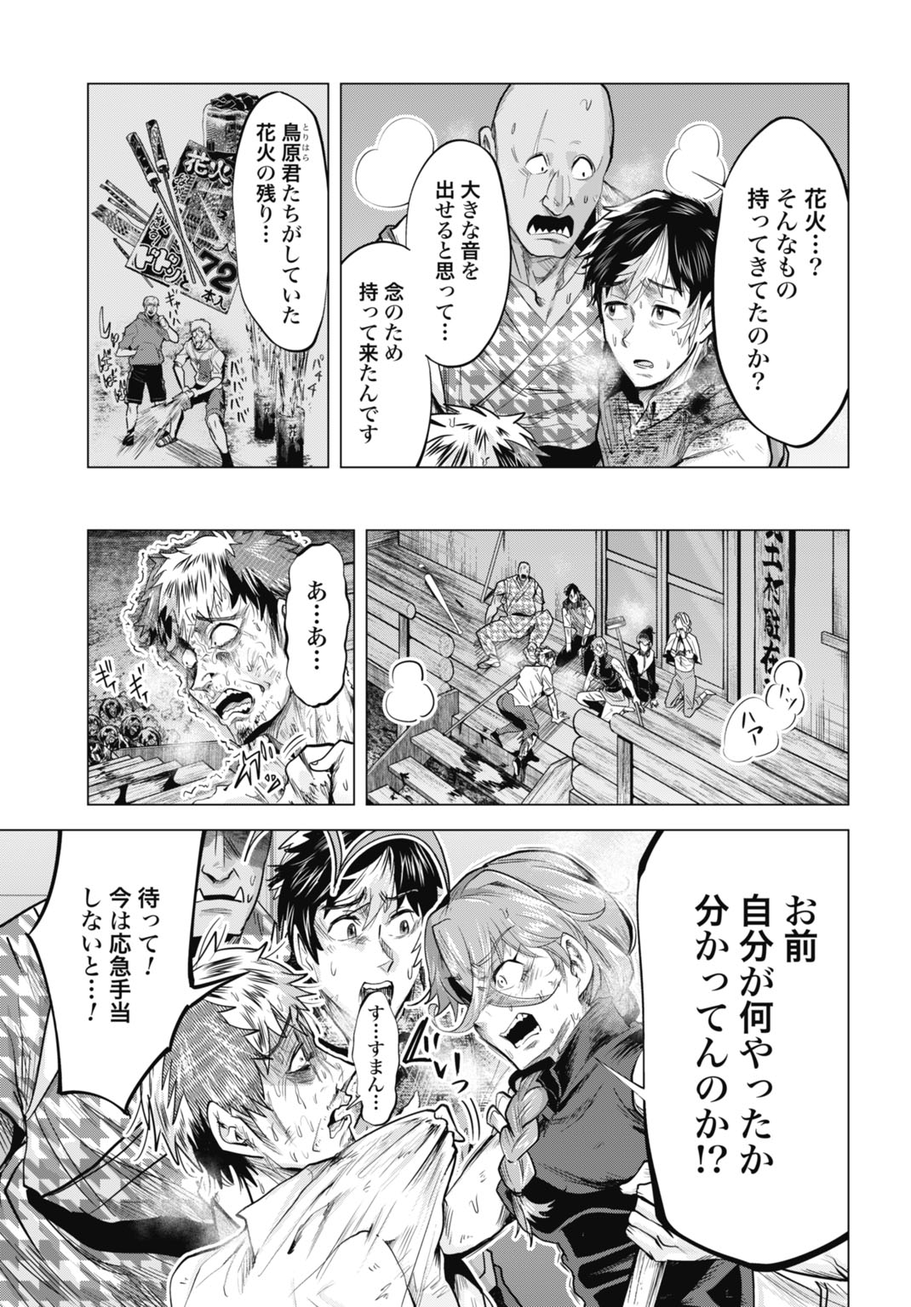bubbles: (616, 830, 850, 1279), (20, 831, 236, 1120), (341, 138, 517, 466), (708, 111, 849, 453), (233, 89, 330, 368), (275, 539, 354, 712)
